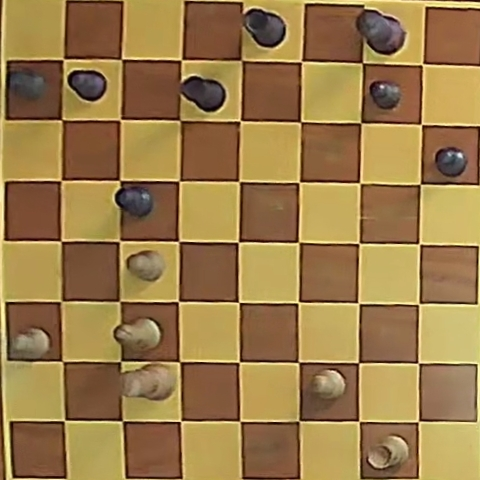black-king: (357, 9, 406, 54)
black-pawn: (8, 68, 46, 100), (68, 70, 107, 101), (116, 186, 153, 217), (434, 147, 466, 176), (370, 81, 402, 109)
black-rook: (243, 8, 286, 48), (181, 76, 226, 112)
white-bishop: (115, 318, 161, 352)
white-king: (121, 364, 175, 399)
white-pawn: (9, 327, 51, 360), (126, 250, 165, 281), (311, 369, 346, 399)
white-rook: (368, 435, 409, 470)
